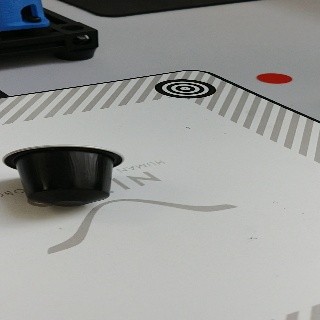capsule_10: (1, 144, 125, 208)
